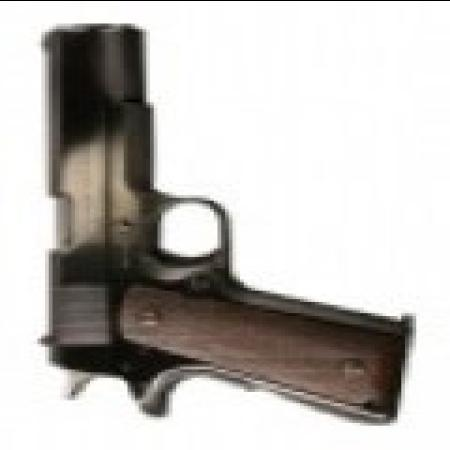Pistol: (23, 26, 405, 431)
